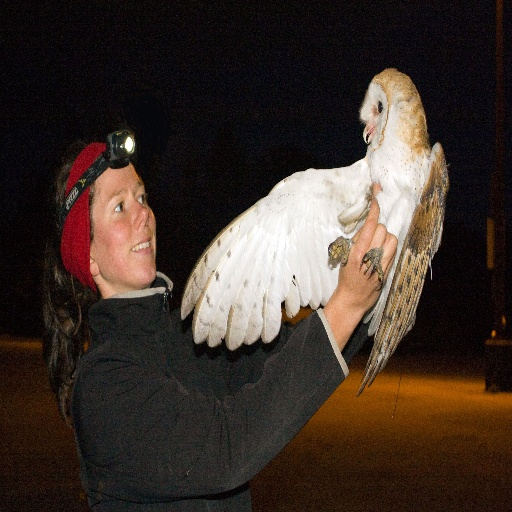hand: (336, 190, 401, 334)
